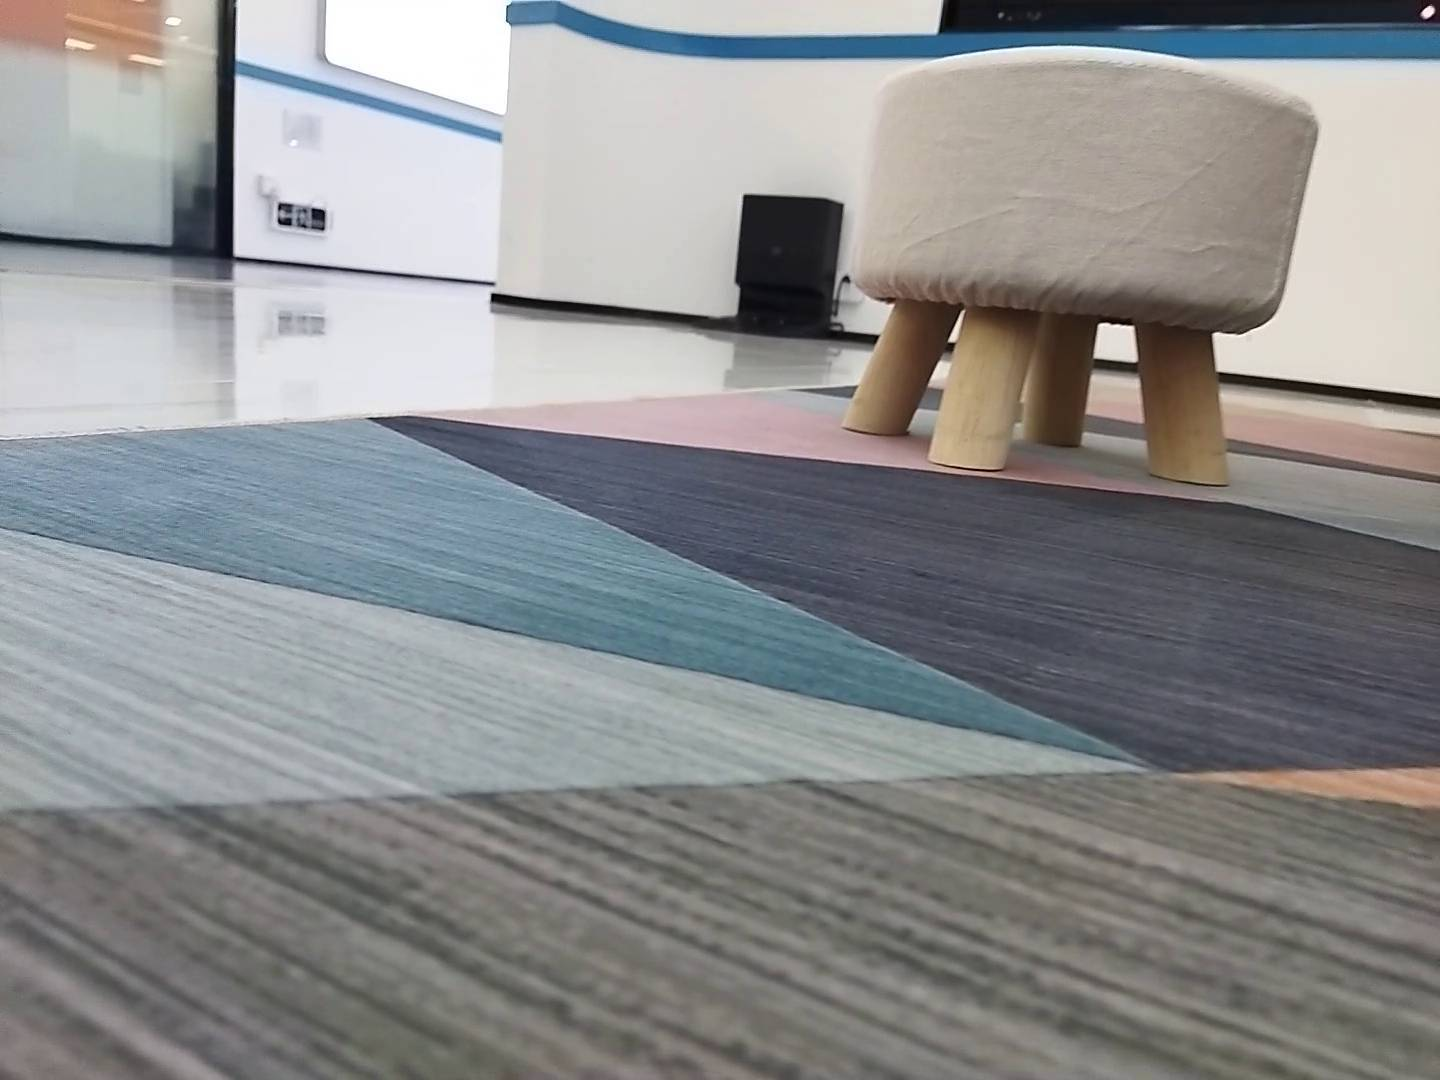dust collecting barrel: (688, 193, 844, 341)
